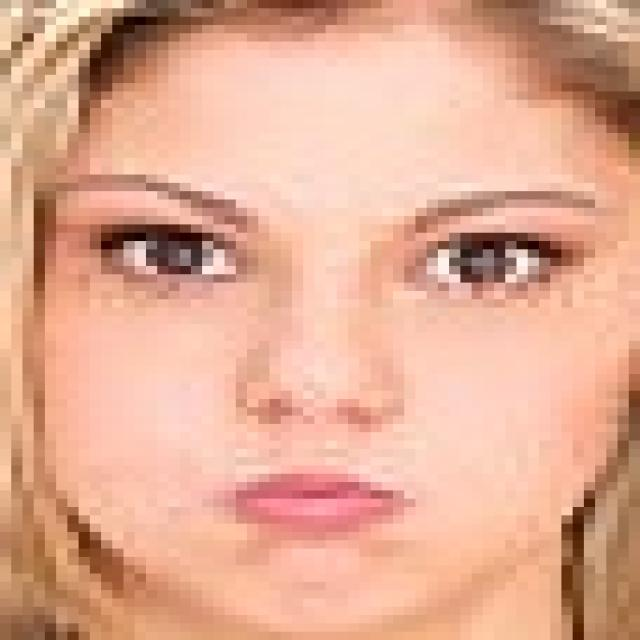Anxiety: (43, 17, 629, 632)
